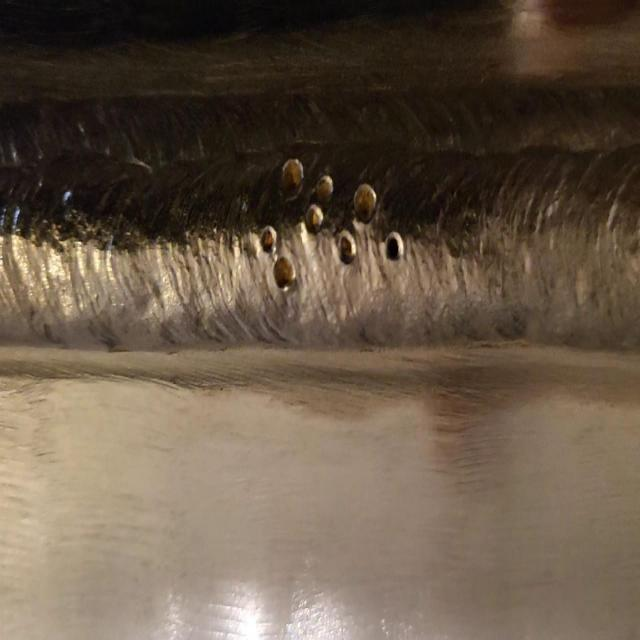Welding Line: (2, 103, 640, 349)
Workpiece: (1, 6, 640, 632)
porosity: (258, 157, 404, 290)
